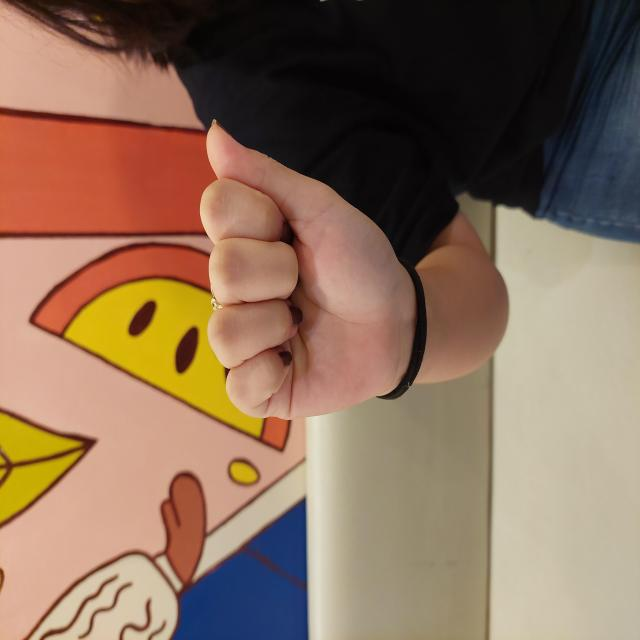A: (217, 198, 522, 406)
